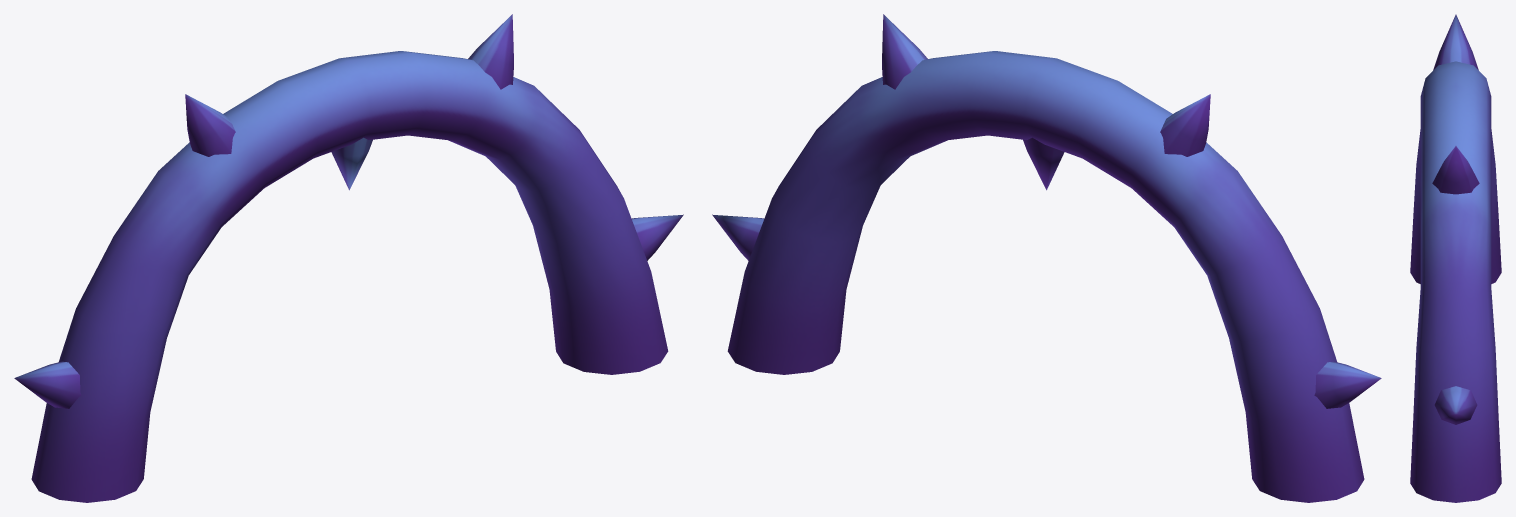
The model's file is ThornVine_S_02.fbx.
3 views of the same model, side by side, from view 1: azimuth 30°, elevation 25°; view 2: azimuth 150°, elevation 25°; view 3: azimuth 270°, elevation 25° (orthographic). The views are drawn at different scales.
Parts seen in each view (by area): view 1: ThornVine_S_2; view 2: ThornVine_S_2; view 3: ThornVine_S_2.
Part boxes in pixels (x1,y1,x2,y2): ThornVine_S_2: (14, 14, 683, 502); ThornVine_S_2: (712, 14, 1381, 502); ThornVine_S_2: (1410, 14, 1501, 502).
Bounding box in the file's own units: 90.43 × 46.66 × 13.
